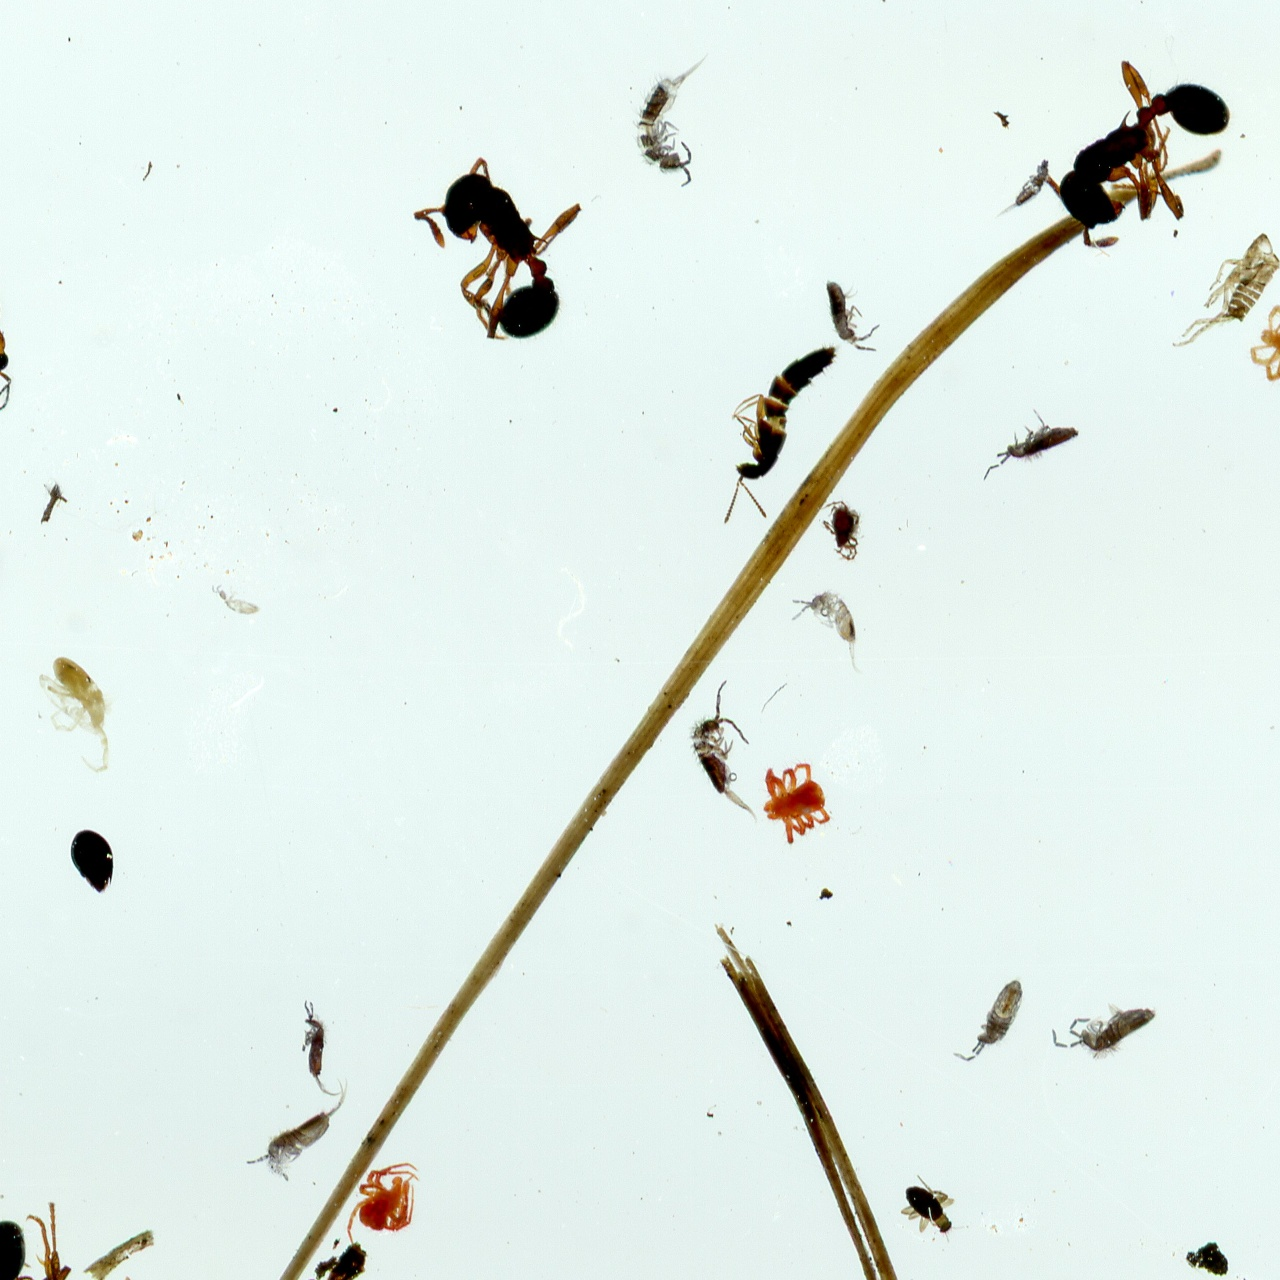arthropod: (1042, 57, 1235, 253), (406, 152, 588, 354), (694, 320, 846, 549), (233, 1071, 384, 1203), (629, 40, 714, 197), (961, 390, 1097, 485), (0, 1198, 142, 1280), (683, 675, 762, 823), (1041, 987, 1175, 1071), (32, 654, 116, 776), (883, 1160, 980, 1259), (810, 258, 890, 367), (755, 760, 842, 847), (951, 978, 1032, 1067), (345, 1158, 423, 1245), (787, 590, 865, 670), (297, 998, 342, 1098), (989, 159, 1050, 223), (1240, 301, 1280, 397), (203, 578, 277, 627), (66, 828, 117, 896), (0, 271, 21, 424), (821, 499, 864, 564)
